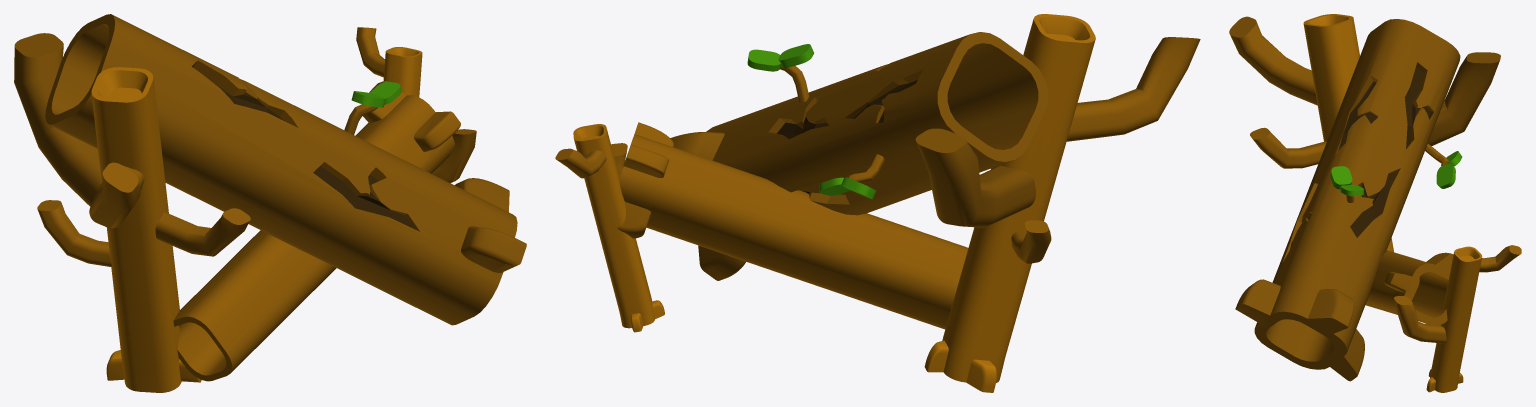
File: breakable_2.fbx
3 views of the same model, side by side, from view 1: azimuth 30°, elevation 25°; view 2: azimuth 150°, elevation 25°; view 3: azimuth 270°, elevation 25° (orthographic). The views are drawn at different scales.
Parts seen in each view (by area): view 1: Cube.387; view 2: Cube.387; view 3: Cube.387.
Part boxes in pixels (x1,y1,x2,y2): Cube.387: [14, 14, 526, 392]; Cube.387: [555, 14, 1200, 392]; Cube.387: [1229, 14, 1521, 392].
Size of the model in its own units: 964 by 686 by 674.
